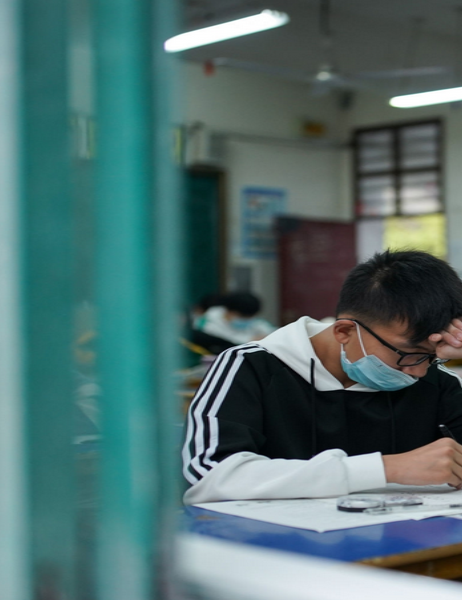mask_weared_incorrect: (342, 254, 459, 391)
